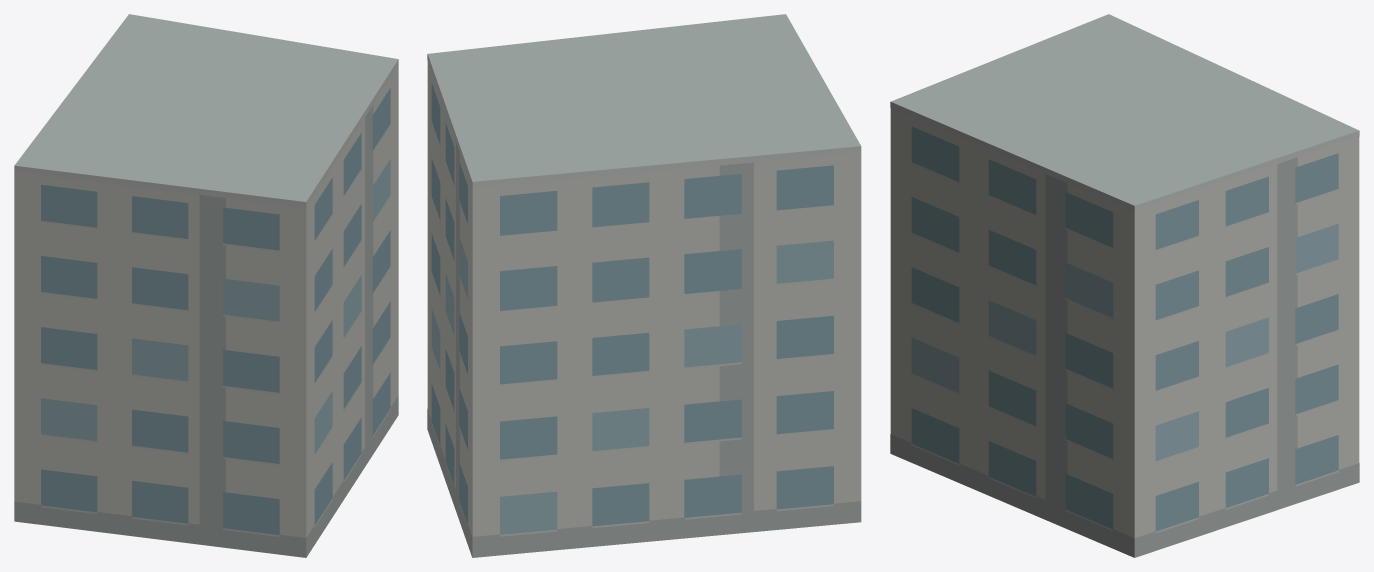
The model's file is survey-upis-32833389.glb.
3 views of the same model, side by side, from view 1: azimuth 30°, elevation 25°; view 2: azimuth 150°, elevation 25°; view 3: azimuth 270°, elevation 25° (orthographic). The views are drawn at different scales.
Visible parts, largest first — view 1: survey-upis-32833389.tmp; view 2: survey-upis-32833389.tmp; view 3: survey-upis-32833389.tmp.
Part boxes in pixels (left/top/right/bottom): survey-upis-32833389.tmp: left=14, top=14, right=398, bottom=557; survey-upis-32833389.tmp: left=427, top=14, right=861, bottom=557; survey-upis-32833389.tmp: left=890, top=14, right=1359, bottom=557.
Bounding box in the file's own units: 16.6 × 14.2 × 17.15.
